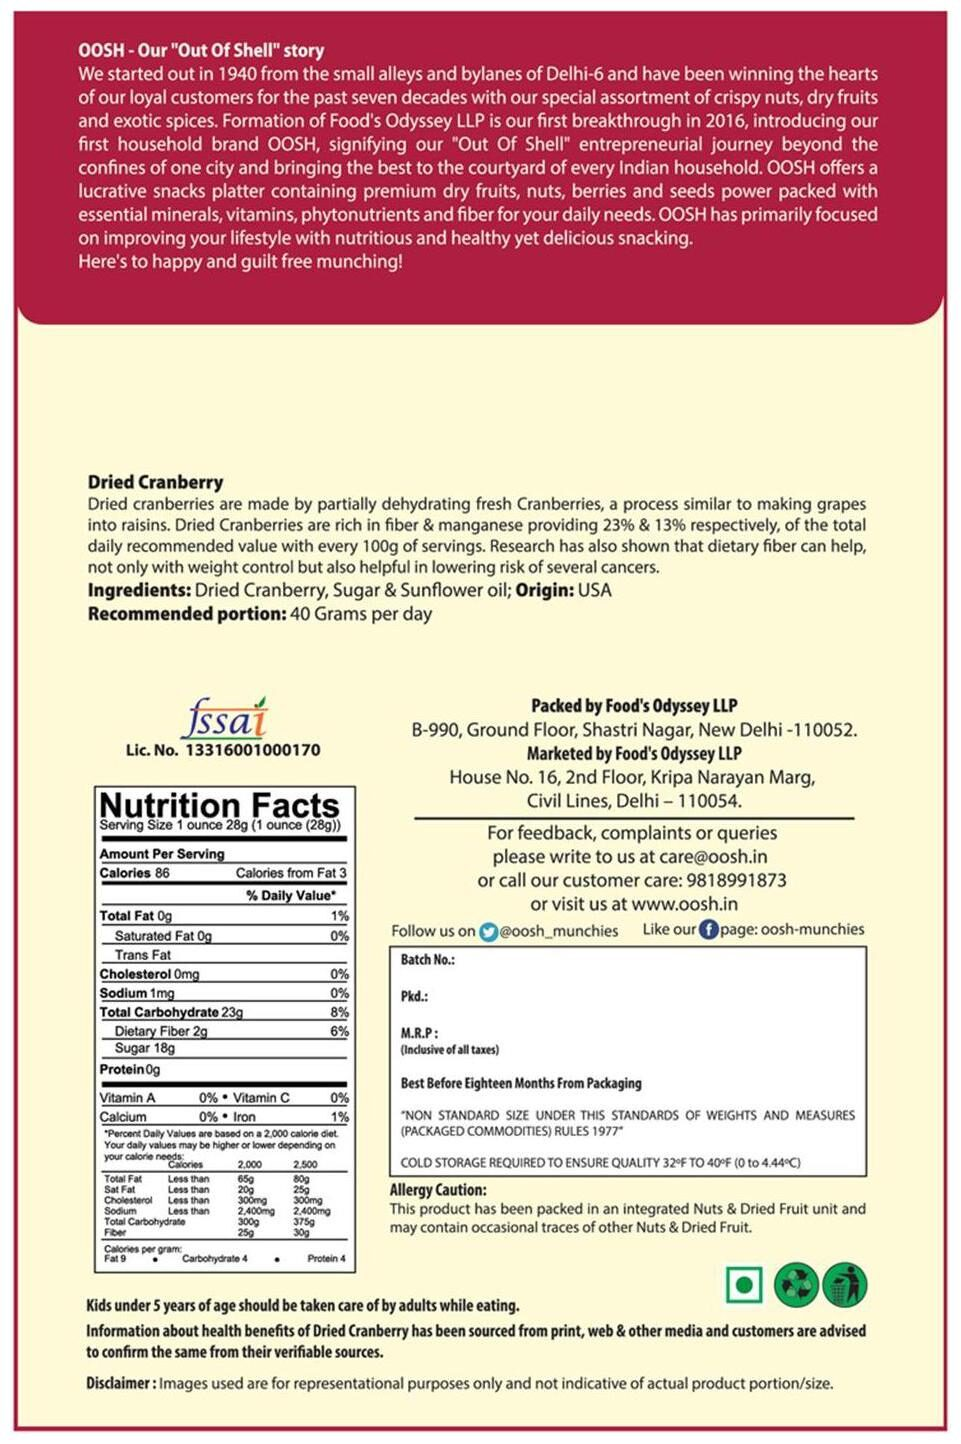fssai: (178, 693, 273, 742)
